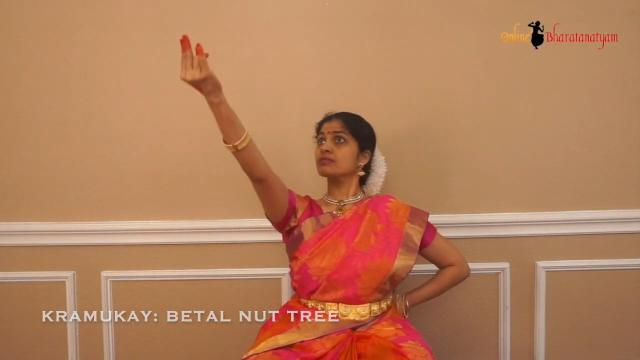kangul: (170, 10, 234, 114)
